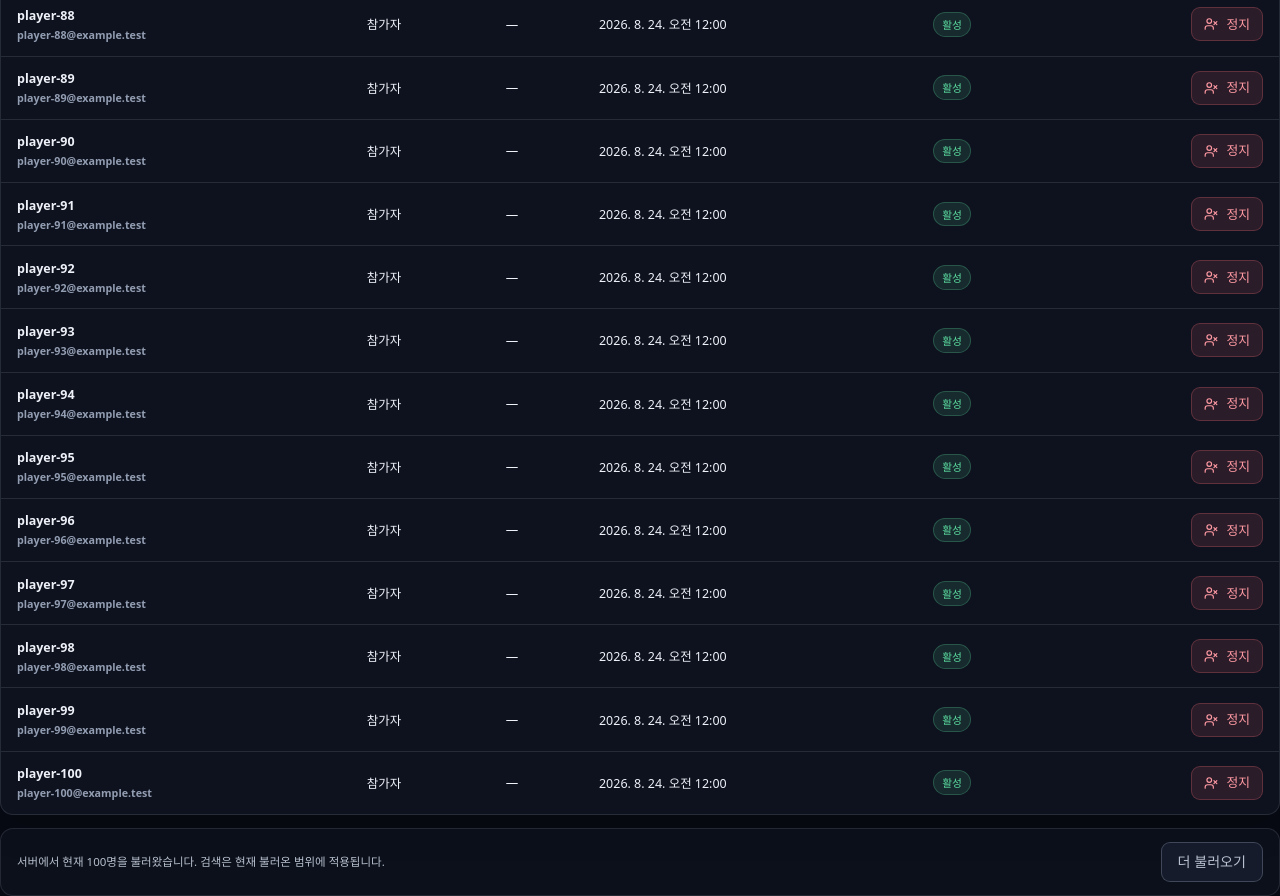
Test: admin user moderation › loads users in bounded pages and requests the next offset explicitly
(page scrolled)
Expected: the text "서버에서 현재 100명을 불러왔습니다. 검색은 현재 불러온 범위에 적용됩니다." is shown, [17,853,385,871]
Click the button "더 불러오기".
click(1212, 862)  # box [1161,842,1263,882]
(page scrolled)
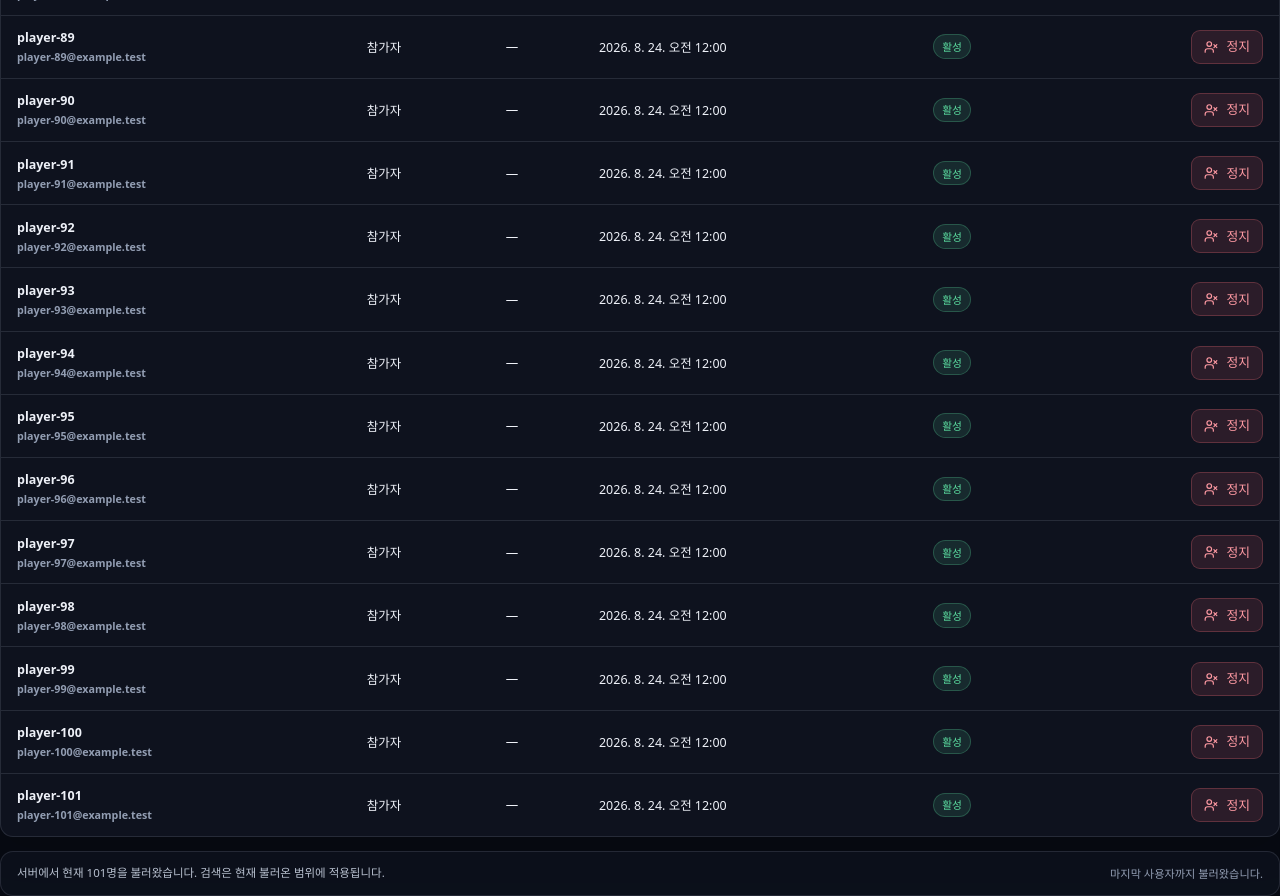
Expected: the text "서버에서 현재 101명을 불러왔습니다. 검색은 현재 불러온 범위에 적용됩니다." is shown, [17,864,385,882]
